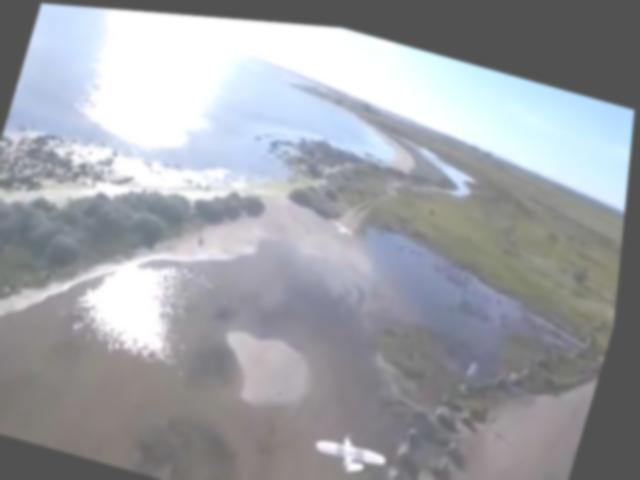uav: (315, 418, 405, 480)
